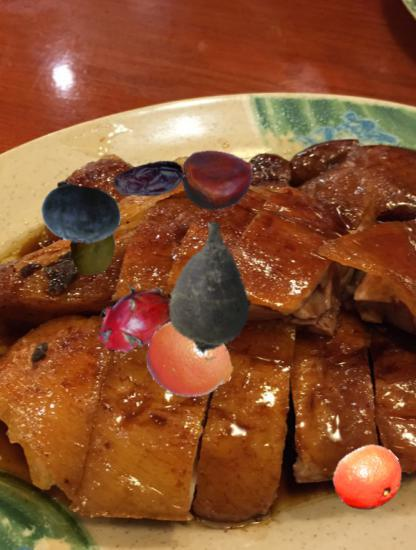Beetroot: (137, 220, 280, 363)
Blueberry: (41, 175, 121, 255)
Chestnut: (183, 145, 254, 216)
Clementine: (330, 442, 404, 516)
Dates: (114, 146, 183, 215)
Papaya: (64, 219, 122, 277)
Pitahaya: (94, 271, 183, 360)
Tangelo: (146, 316, 235, 405)
